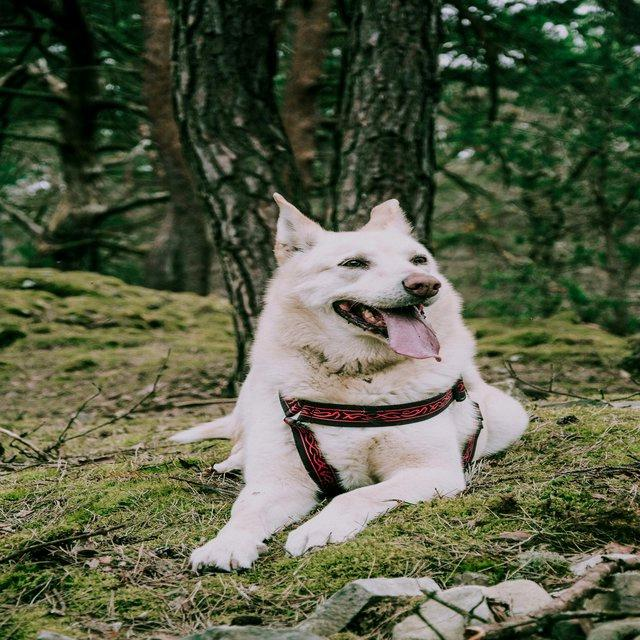husky: (168, 191, 531, 574)
